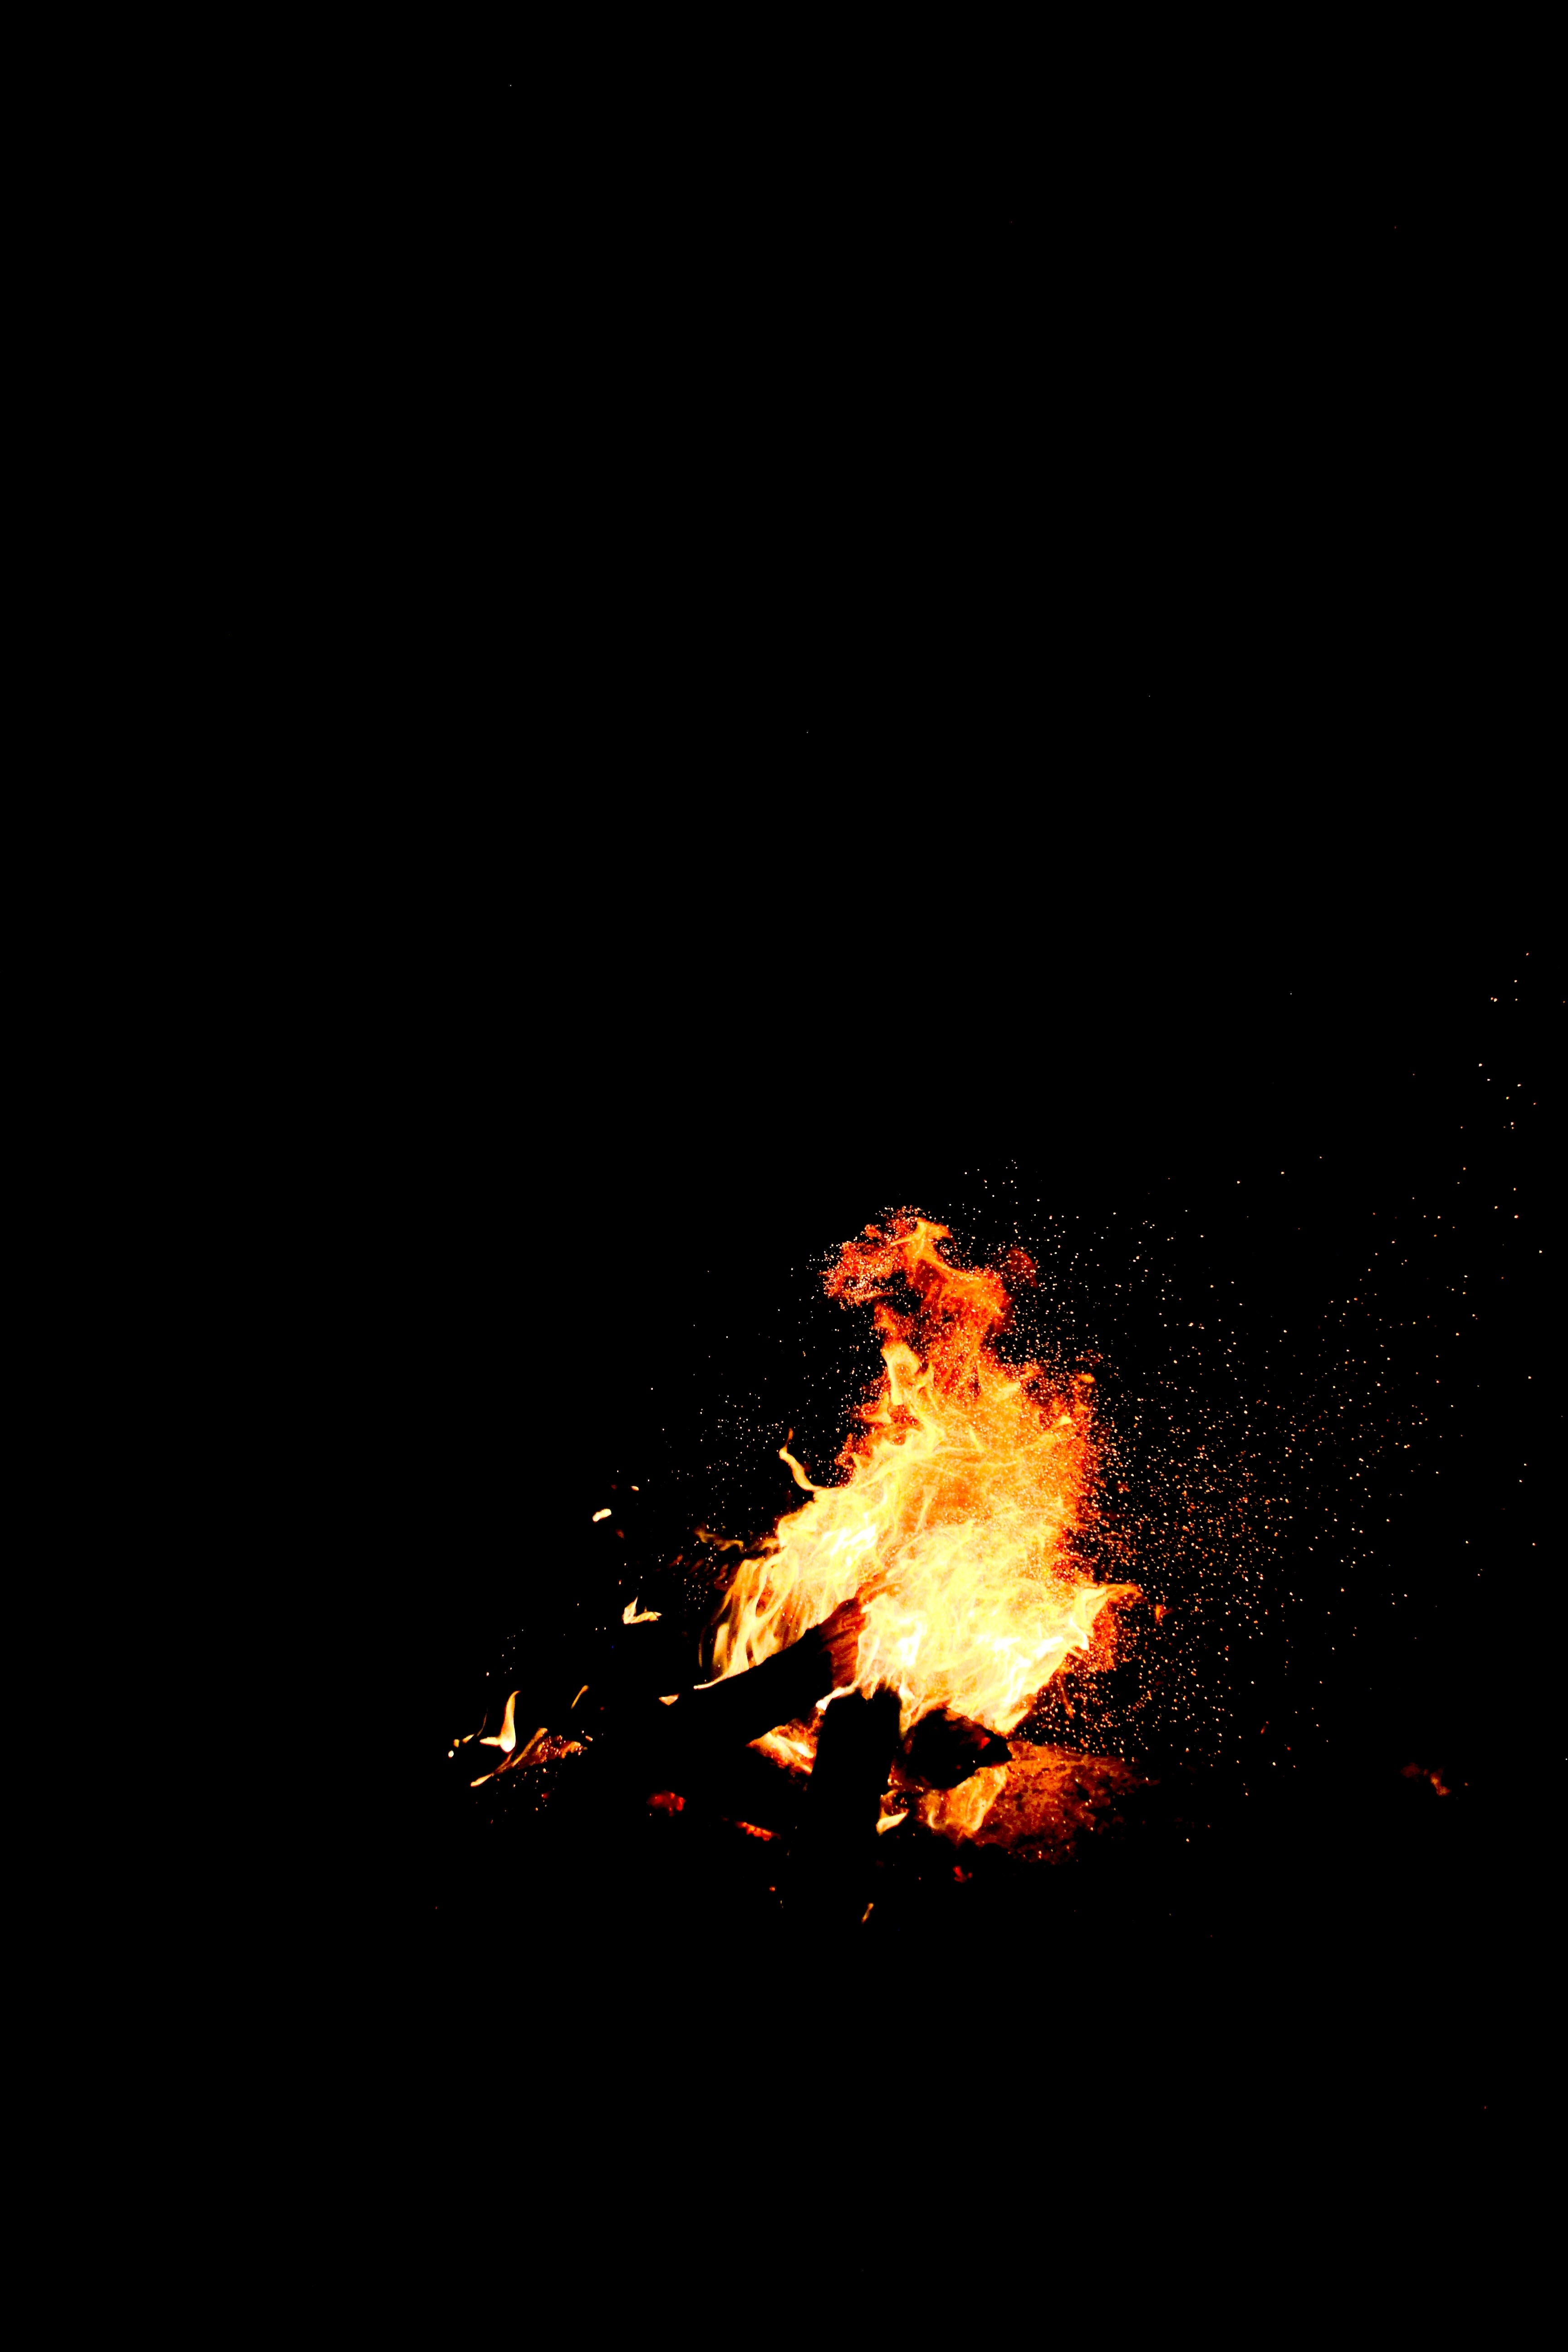fire: (481, 1199, 1174, 1878)
